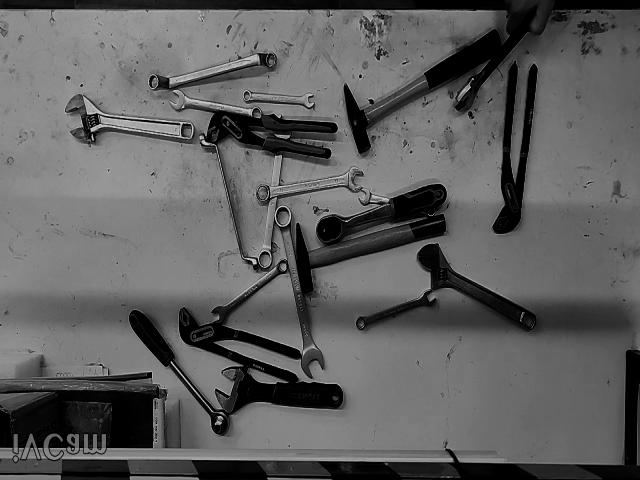Adjustable spanner: (418, 244, 536, 330), (455, 11, 534, 112), (65, 94, 195, 143), (215, 367, 344, 413)
Gas wrench: (179, 308, 301, 383), (492, 64, 538, 233), (206, 112, 338, 159)
Hammer: (344, 31, 501, 153), (296, 214, 446, 295)
Hand: (506, 0, 555, 35)
Ratchet: (129, 310, 229, 435), (316, 184, 446, 243)
Wrench: (275, 207, 324, 378), (199, 133, 259, 272), (148, 53, 278, 91), (212, 260, 288, 323), (256, 167, 364, 203), (356, 290, 436, 330), (258, 152, 282, 270), (170, 90, 261, 118), (242, 90, 315, 108), (358, 188, 389, 206)
